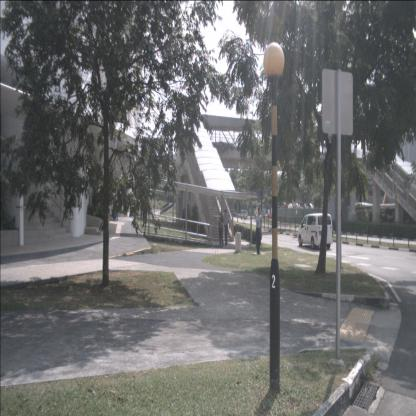human-pedestrian-adult: (255, 207, 263, 256), (223, 209, 230, 246), (218, 212, 224, 249)
movable_object-barrier: (267, 214, 271, 219), (264, 214, 268, 219)
vehicle-car: (298, 213, 333, 250), (241, 210, 247, 219)
vehicle-truck: (229, 206, 235, 216)
